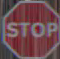Stop: (4, 2, 59, 52)
